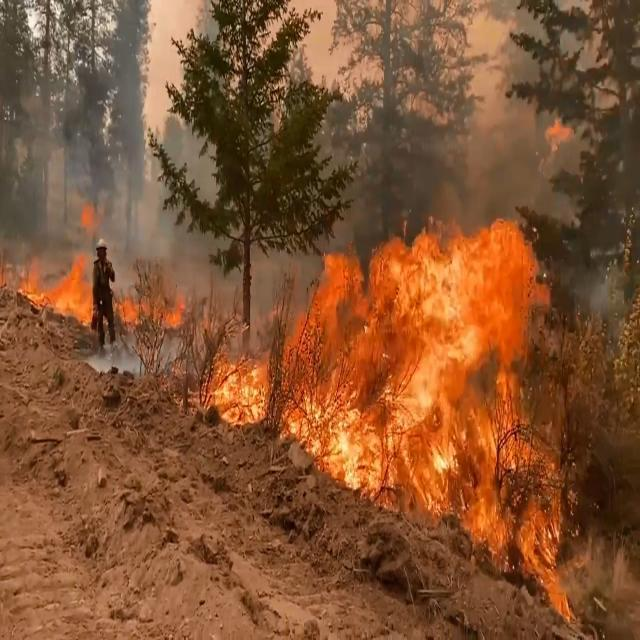Fire: (10, 192, 570, 602)
